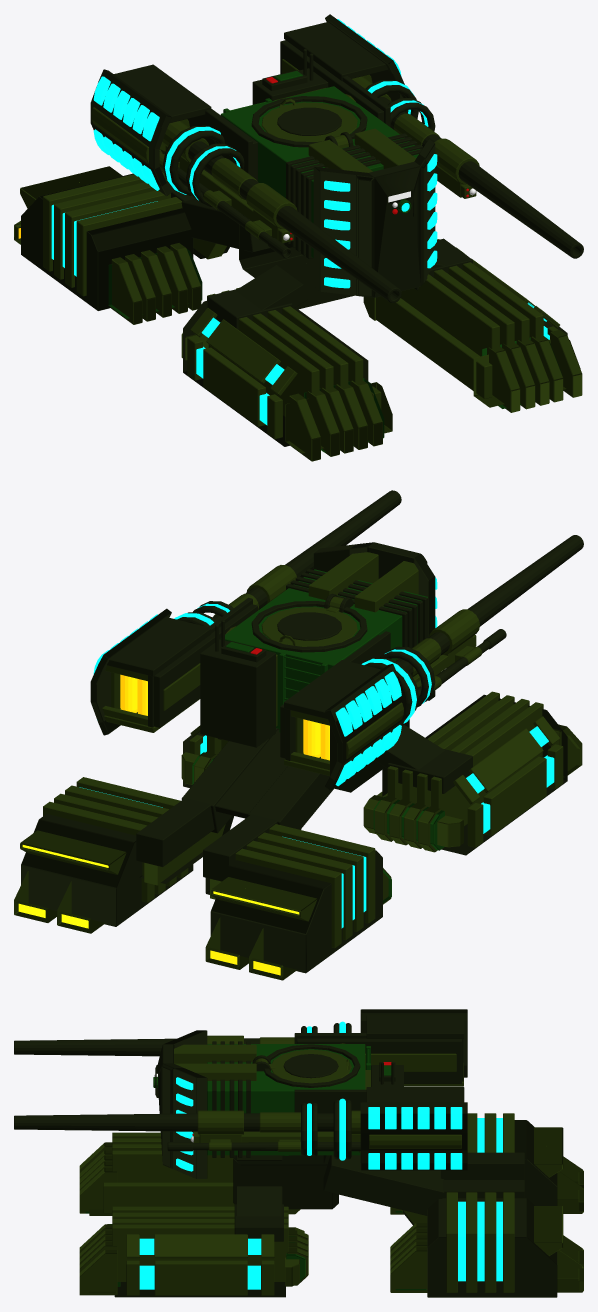
File: FCC New.fbx
3 renders of one model, top to bottom at view 1: azimuth 30°, elevation 25°; view 2: azimuth 150°, elevation 25°; view 3: azimuth 270°, elevation 25°, orthographic. The views are drawn at different scales.
Parts seen in each view (by area): view 1: Cube_9_5, Cube_7_5, Tube_4, Cube_9, Cube_6_4, Cube_6_5, Upper_Base, Cube_3_7, Cube_4_5, Lower_Base_6, Cube_5_4, Cube_4_7 (+41 smaller); view 2: Cube_7_5, Cube_2_7, Hind_Leg, Cube_9, Lower_Base_2_5, Upper_Base, Lower_Base_9, Tube_4, Cube_4_5, Lower_Base_4_5, Cube_2_6, Lower_Base_7 (+38 smaller); view 3: Cube_7_5, Tube_4, Cube_4_5, Hind_Leg, Upper_Base, Cube_9, Lower_Base, Cube_9_5, Cube_6_4, Cube_3_7, Cube_7_4, Cube_6_5 (+49 smaller).
Boxes of the visible parts, box(x1,y1,x2,y2) form: Cube_9_5: box(313, 139, 435, 297); Cube_7_5: box(21, 173, 193, 310); Tube_4: box(276, 161, 583, 302); Cube_9: box(114, 22, 388, 123); Cube_6_4: box(282, 274, 499, 385); Cube_6_5: box(371, 296, 492, 409); Upper_Base: box(220, 86, 419, 257); Cube_3_7: box(207, 239, 543, 416); Cube_4_5: box(90, 14, 404, 195); Lower_Base_6: box(289, 330, 582, 461); Cube_5_4: box(236, 269, 514, 388); Cube_4_7: box(221, 265, 529, 391); Cube_7_5: box(21, 814, 382, 973); Cube_2_7: box(200, 639, 275, 747); Hind_Leg: box(181, 728, 335, 833); Cube_9: box(107, 617, 381, 718); Lower_Base_2_5: box(136, 798, 277, 881); Upper_Base: box(220, 569, 427, 728); Lower_Base_9: box(20, 830, 317, 921); Tube_4: box(285, 490, 583, 626); Cube_4_5: box(90, 608, 405, 790); Lower_Base_4_5: box(43, 801, 341, 948); Cube_2_6: box(308, 552, 418, 612); Lower_Base_7: box(76, 777, 375, 923); Cube_7_5: box(427, 1120, 557, 1297); Tube_4: box(14, 1038, 197, 1131); Cube_4_5: box(360, 1009, 467, 1170); Hind_Leg: box(323, 1155, 444, 1215); Upper_Base: box(207, 1044, 365, 1155); Cube_9: box(366, 1015, 464, 1102); Lower_Base: box(233, 1155, 338, 1209); Cube_9_5: box(158, 1030, 207, 1178); Cube_6_4: box(112, 1150, 288, 1212); Cube_3_7: box(112, 1132, 288, 1281); Cube_7_4: box(154, 1260, 247, 1295); Cube_6_5: box(103, 1182, 234, 1213).
Bounding box in the file's own units: 539 × 410 × 1080.
